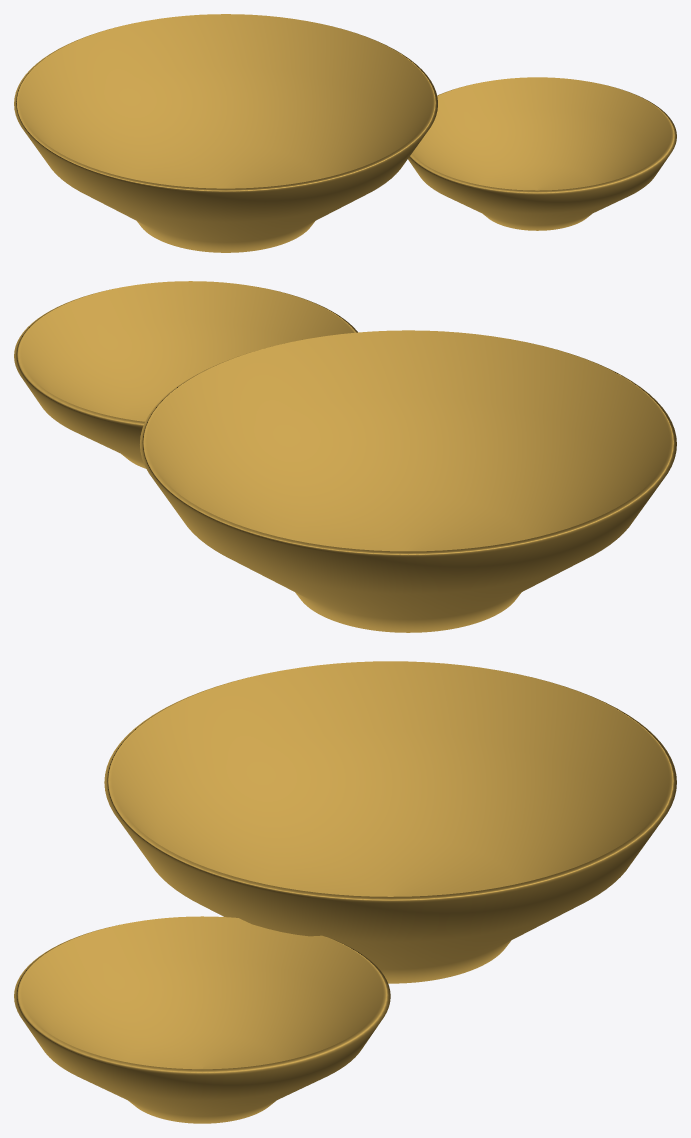
File: cr-brass-bowl.glb
3 renders of one model, top to bottom at view 1: azimuth 30°, elevation 25°; view 2: azimuth 150°, elevation 25°; view 3: azimuth 270°, elevation 25°, orthographic. The views are drawn at different scales.
Parts seen in each view (by area): view 1: cr_brass_bowl; view 2: cr_brass_bowl; view 3: cr_brass_bowl.
Boxes of the visible parts, x1,y1,x2,y2 form: cr_brass_bowl: (14,14,676,252); cr_brass_bowl: (14,281,676,632); cr_brass_bowl: (14,661,676,1123).
Bounding box in the file's own units: 0.4018 × 0.08 × 0.3129.
